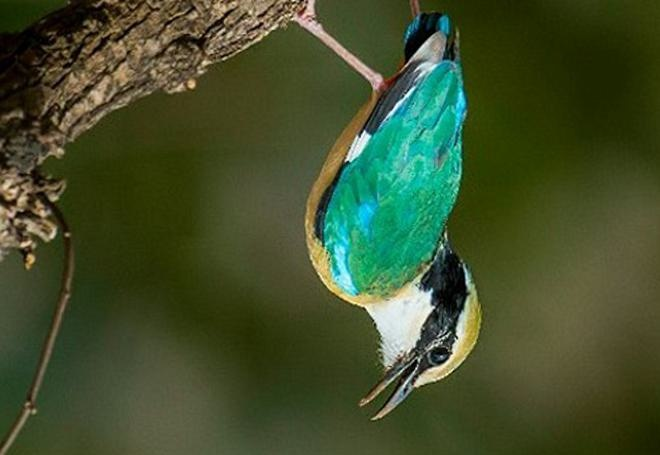pitta: (314, 12, 481, 432)
